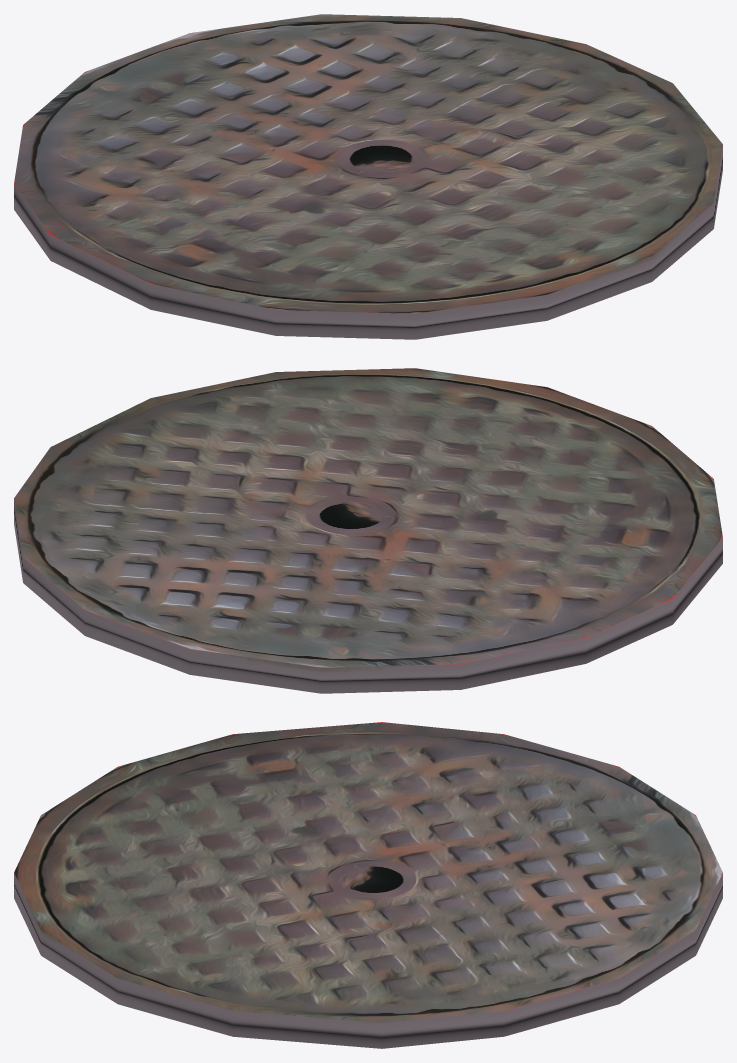
File: Manhole.fbx
The picture shows the model from 3 angles, top to bottom: view 1: azimuth 30°, elevation 25°; view 2: azimuth 150°, elevation 25°; view 3: azimuth 270°, elevation 25°; orthographic projection.
Visible parts, largest first — view 1: Manhole1; view 2: Manhole1; view 3: Manhole1.
Boxes of the visible parts, <box> form: Manhole1: <box>14,14,722,339</box>; Manhole1: <box>14,368,722,693</box>; Manhole1: <box>14,722,722,1048</box>.
Size of the model in its own units: 86.09 by 3.43 by 85.69.
Materials: 1 (1 with a texture image).
